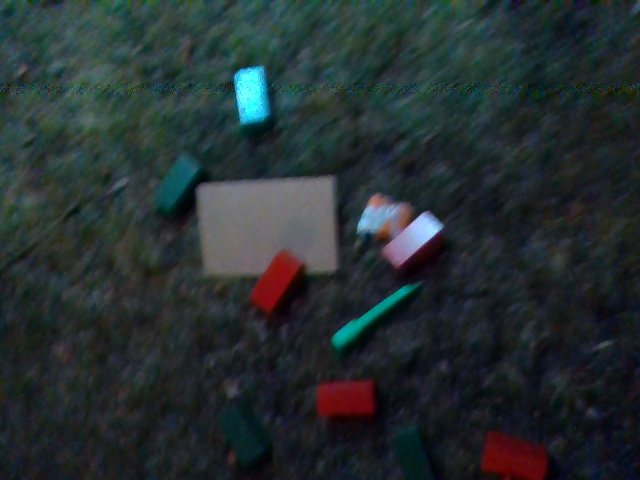Probe: (330, 275, 427, 349)
